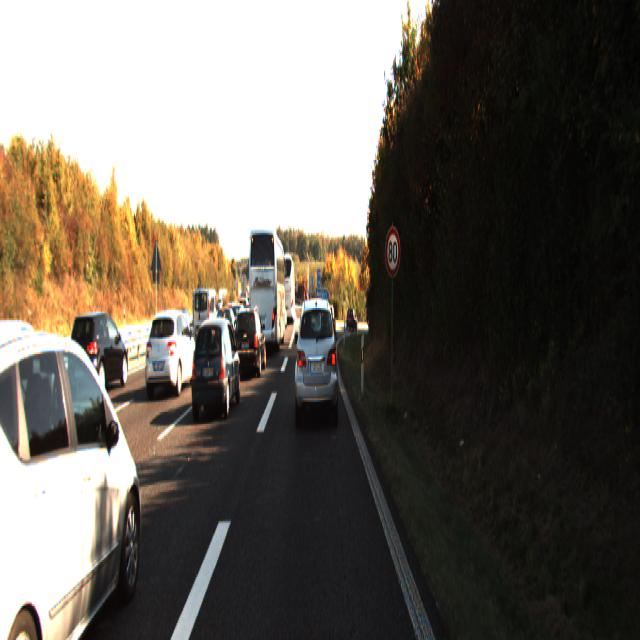Car: (0, 316, 148, 639), (0, 317, 71, 451), (0, 335, 42, 531), (294, 294, 338, 429), (189, 314, 241, 421), (66, 309, 129, 397), (247, 224, 286, 353), (144, 308, 197, 400), (232, 305, 266, 378), (192, 291, 219, 349), (280, 258, 295, 328), (346, 308, 358, 334)
